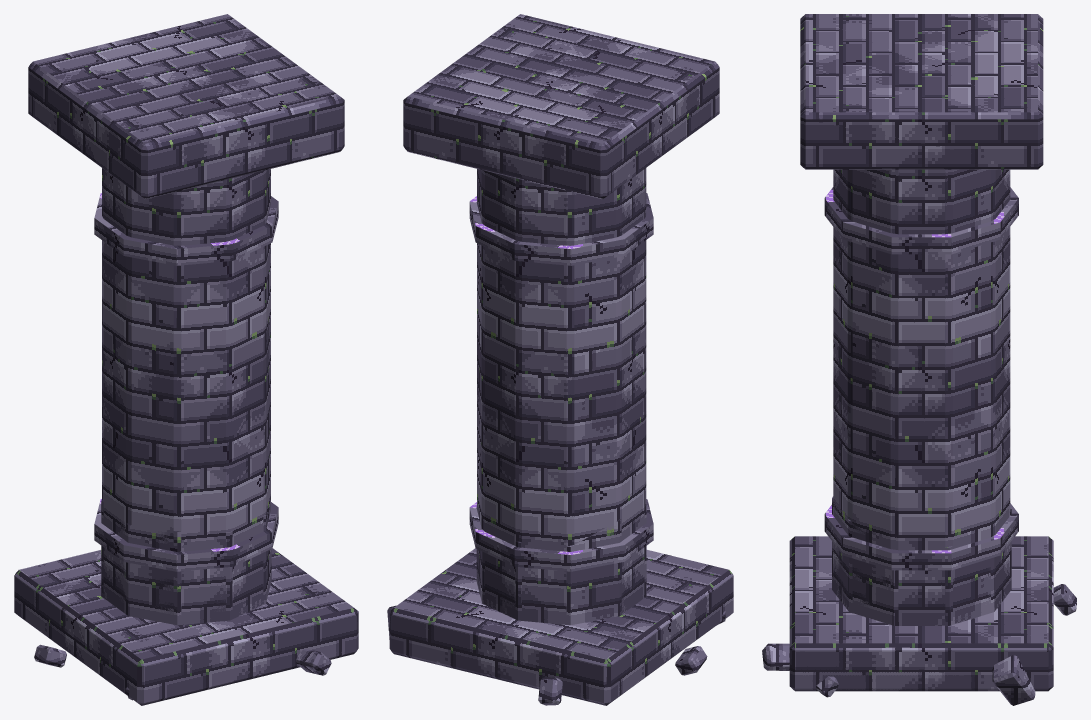
Rendered from tower_column.glb.
3 views of the same model, side by side, from view 1: azimuth 30°, elevation 25°; view 2: azimuth 150°, elevation 25°; view 3: azimuth 270°, elevation 25° (orthographic). The views are drawn at different scales.
Visible parts, largest first — view 1: Column, Stub; view 2: Column, Stub; view 3: Column, Stub.
Boxes of the visible parts, <box> form: Column: <box>14,14,358,705</box>; Stub: <box>14,500,331,700</box>; Column: <box>389,14,733,705</box>; Stub: <box>387,504,725,705</box>; Column: <box>789,14,1053,691</box>; Stub: <box>762,496,1076,705</box>.
Bounding box in the file's own units: 3.09 × 6.13 × 2.98.
Materials: 2 (2 with a texture image).
